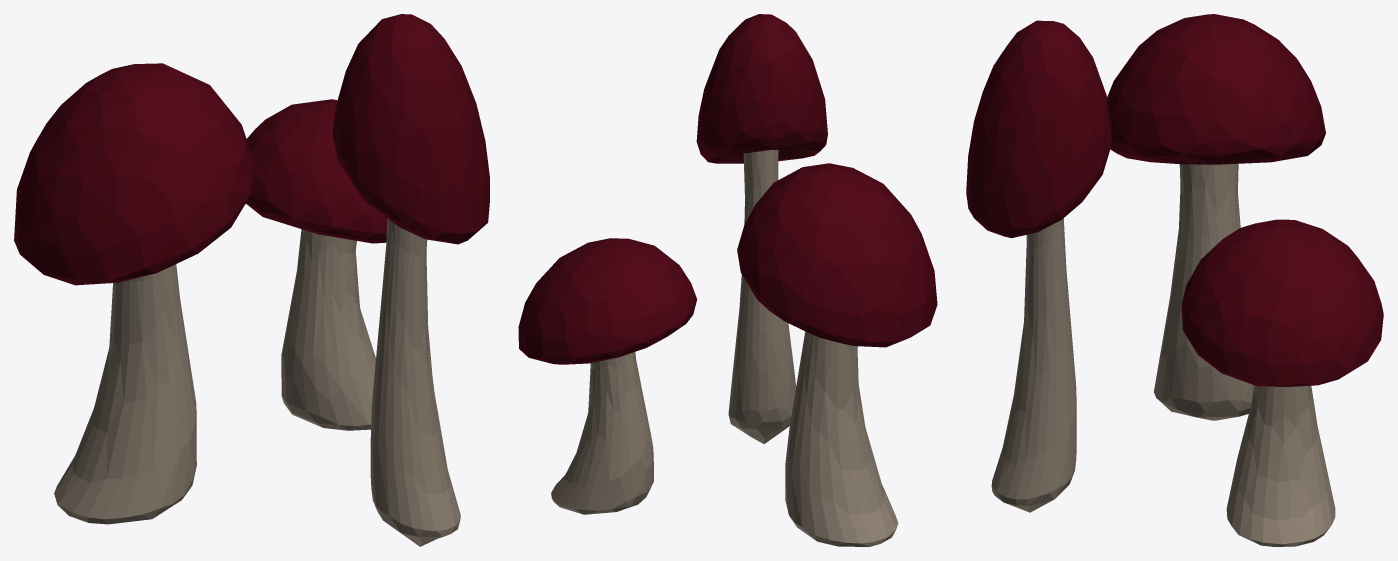
The model's file is mushroom1.fbx.
3 views of the same model, side by side, from view 1: azimuth 30°, elevation 25°; view 2: azimuth 150°, elevation 25°; view 3: azimuth 270°, elevation 25° (orthographic). The views are drawn at different scales.
Visible parts, largest first — view 1: mushroom.003; view 2: mushroom.003; view 3: mushroom.003.
Boxes of the visible parts, <box> form: mushroom.003: <box>14,14,489,546</box>; mushroom.003: <box>518,14,937,546</box>; mushroom.003: <box>966,14,1383,546</box>.
Bounding box in the file's own units: 37.79 × 43.34 × 33.73.
